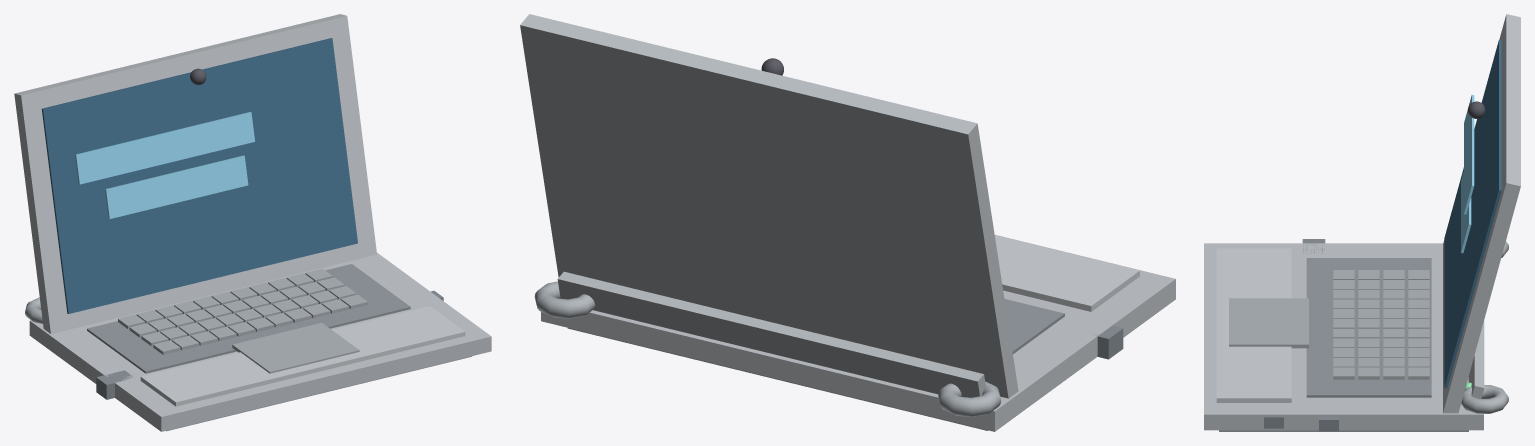
File: laptop.glb
3 renders of one model, left to right at view 1: azimuth 30°, elevation 25°; view 2: azimuth 150°, elevation 25°; view 3: azimuth 270°, elevation 25°, orthographic. The views are drawn at different scales.
Parts seen in each view (by area): view 1: screen_display, screen_bezel, laptop_base, keyboard_keys, palm_rest, keyboard_deck, screen_window_1, screen_window_2, trackpad, ethernet_port; view 2: screen_bezel, laptop_base, screen_chin, palm_rest, keyboard_deck, hinge, hinge_right, ethernet_port, chassis_lower; view 3: laptop_base, keyboard_keys, palm_rest, keyboard_deck, screen_display, screen_bezel, trackpad, screen_window_1, hinge_right, screen_chin, screen_window_2, chassis_lower (+1 smaller).
Part boxes in pixels (x1,y1,x2,y2): screen_display: [41, 38, 357, 313]; screen_bezel: [14, 14, 376, 333]; laptop_base: [29, 253, 491, 431]; keyboard_keys: [118, 268, 367, 354]; palm_rest: [140, 306, 465, 406]; keyboard_deck: [87, 264, 410, 373]; screen_window_1: [75, 112, 254, 184]; screen_window_2: [105, 155, 248, 218]; trackpad: [232, 322, 359, 373]; ethernet_port: [96, 370, 133, 399]; screen_bezel: [520, 14, 1018, 398]; laptop_base: [541, 235, 1175, 431]; screen_chin: [557, 271, 985, 397]; palm_rest: [994, 235, 1139, 311]; keyboard_deck: [1004, 299, 1064, 353]; hinge: [938, 381, 1001, 417]; hinge_right: [534, 281, 595, 318]; ethernet_port: [1093, 325, 1123, 359]; chassis_lower: [567, 328, 988, 430]; laptop_base: [1204, 243, 1483, 430]; keyboard_keys: [1333, 270, 1429, 379]; palm_rest: [1216, 248, 1291, 402]; keyboard_deck: [1306, 258, 1431, 397]; screen_display: [1444, 40, 1501, 388]; screen_bezel: [1443, 14, 1520, 413]; trackpad: [1229, 298, 1308, 348]; screen_window_1: [1464, 94, 1474, 214]; hinge_right: [1461, 385, 1508, 413]; screen_chin: [1468, 320, 1484, 398]; screen_window_2: [1461, 171, 1471, 253]; chassis_lower: [1219, 430, 1468, 431].
Size of the model in its own units: 1.41 by 0.9379 by 1.06.
